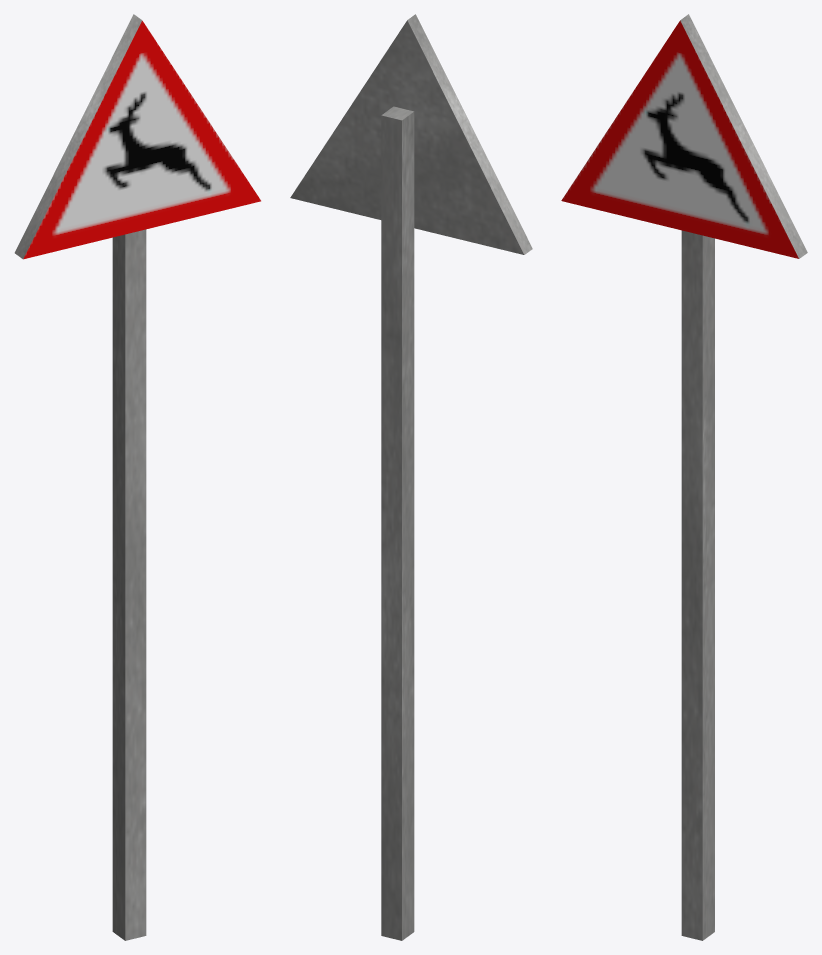
File: co_StreetSign_DeerCrossing.fbx
3 renders of one model, left to right at view 1: azimuth 30°, elevation 25°; view 2: azimuth 150°, elevation 25°; view 3: azimuth 330°, elevation 25°, orthographic.
Parts seen in each view (by area): view 1: StreetSign_Deer_Crossing; view 2: StreetSign_Deer_Crossing; view 3: StreetSign_Deer_Crossing.
Boxes of the visible parts, left/top/right/bottom form: StreetSign_Deer_Crossing: left=14, top=14, right=260, bottom=940; StreetSign_Deer_Crossing: left=290, top=14, right=532, bottom=940; StreetSign_Deer_Crossing: left=561, top=14, right=807, bottom=940.
Size of the model in its own units: 188 by 699 by 29.77.
